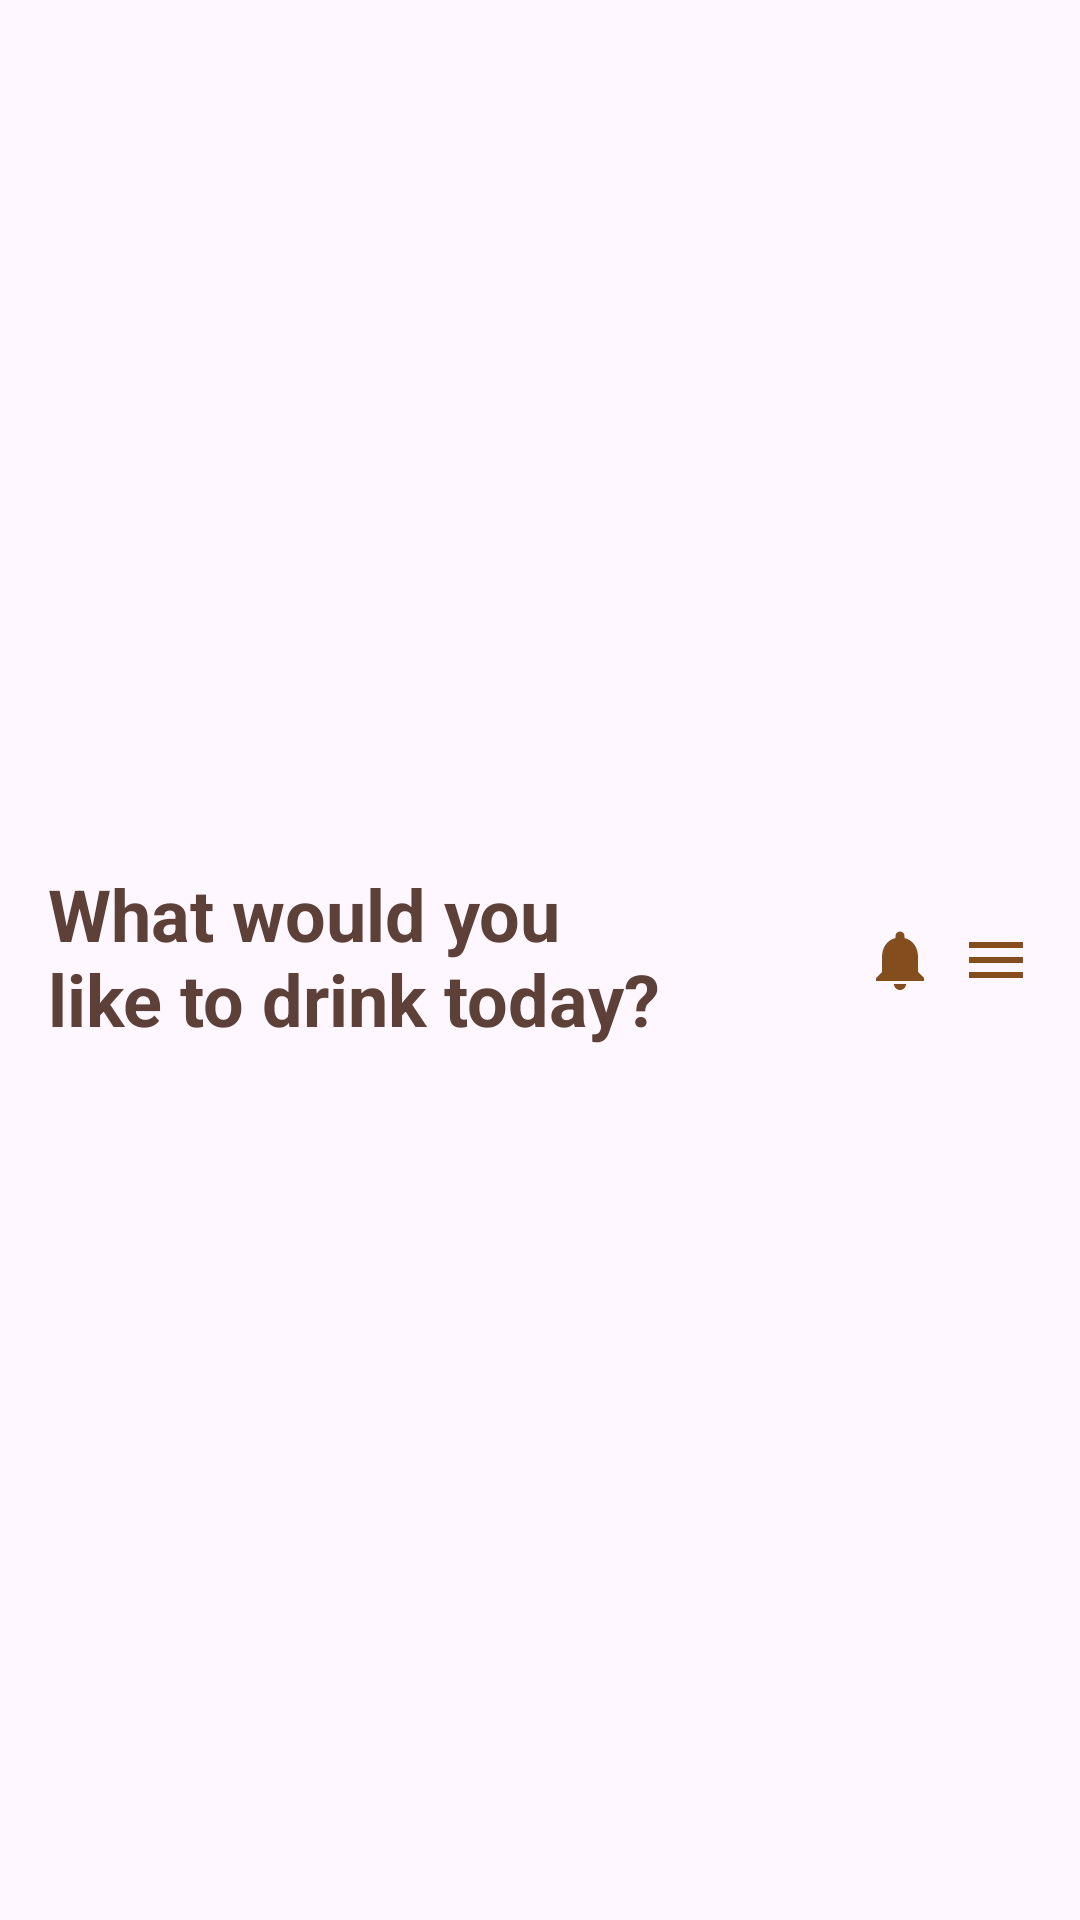

Icons on this 1080 x 1920 Android screen, each with its box as (x1, y1, x2, y2):
Menu: (969, 942, 1023, 978)
Notifications: (876, 931, 924, 990)
